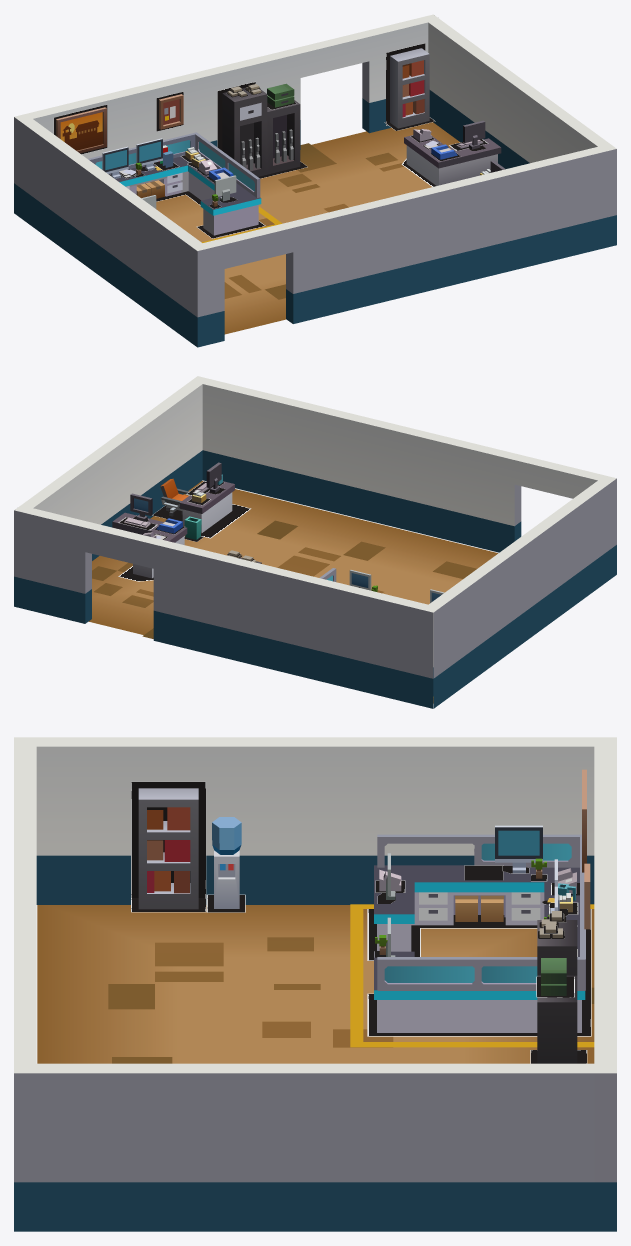
Rendered from control room.fbx.
3 renders of one model, top to bottom at view 1: azimuth 30°, elevation 25°; view 2: azimuth 150°, elevation 25°; view 3: azimuth 270°, elevation 25°, orthographic. The views are drawn at different scales.
Visible parts, largest first — view 1: desk; view 2: desk; view 3: desk.
Part boxes in pixels (left/top/right/bottom): desk: left=14, top=14, right=616, bottom=347; desk: left=14, top=376, right=616, bottom=708; desk: left=14, top=737, right=616, bottom=1231.
Size of the model in its own units: 1227 by 930 by 284.
Materials: 2 (2 with a texture image).
